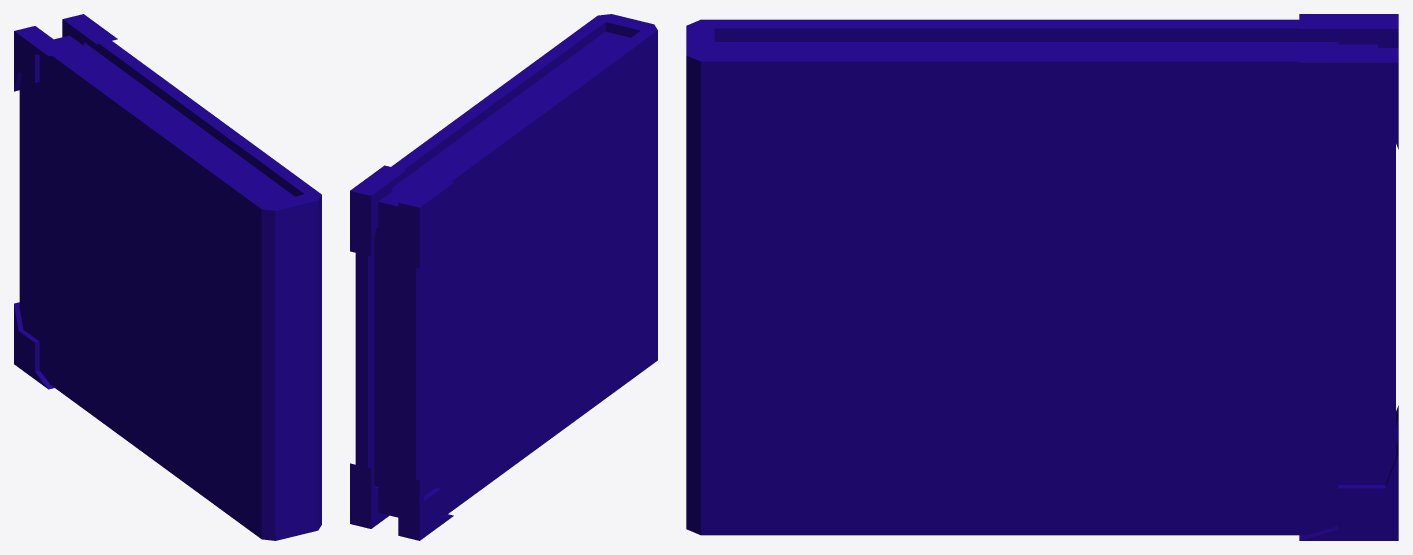
Rendered from CG_Model_TownInt_Book6_Mar24_ChrisMcknight.FBX.
3 renders of one model, left to right at view 1: azimuth 30°, elevation 25°; view 2: azimuth 150°, elevation 25°; view 3: azimuth 270°, elevation 25°, orthographic. The views are drawn at different scales.
Visible parts, largest first — view 1: Book6; view 2: Book6; view 3: Book6.
Part boxes in pixels (box(x1,y1,x2,y2)): Book6: box(14, 14, 321, 540); Book6: box(350, 14, 657, 540); Book6: box(686, 14, 1398, 540).
Size of the model in its own units: 0.73 by 3.33 by 4.5.
